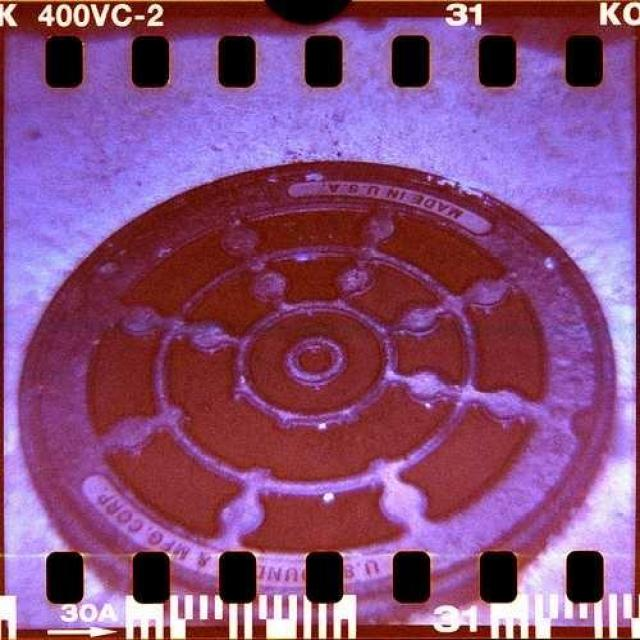manhole: (20, 163, 615, 604)
